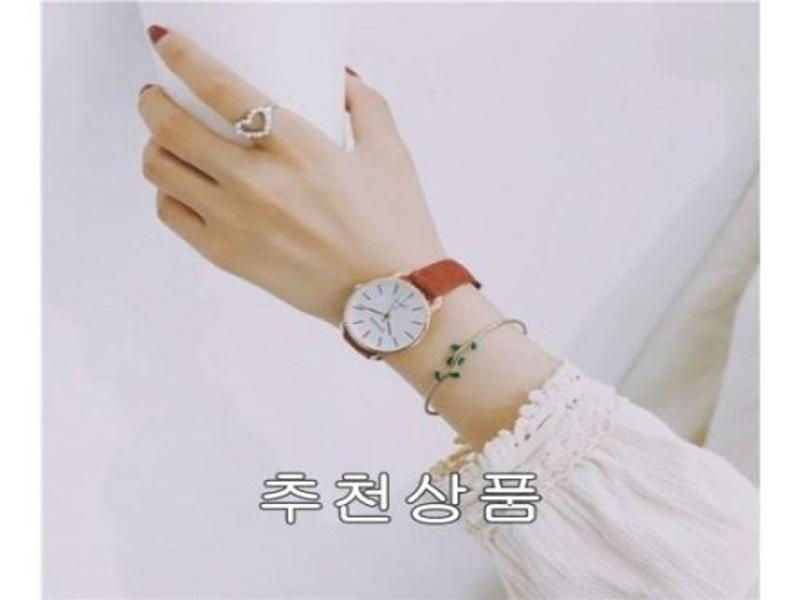watch: (340, 258, 484, 362)
